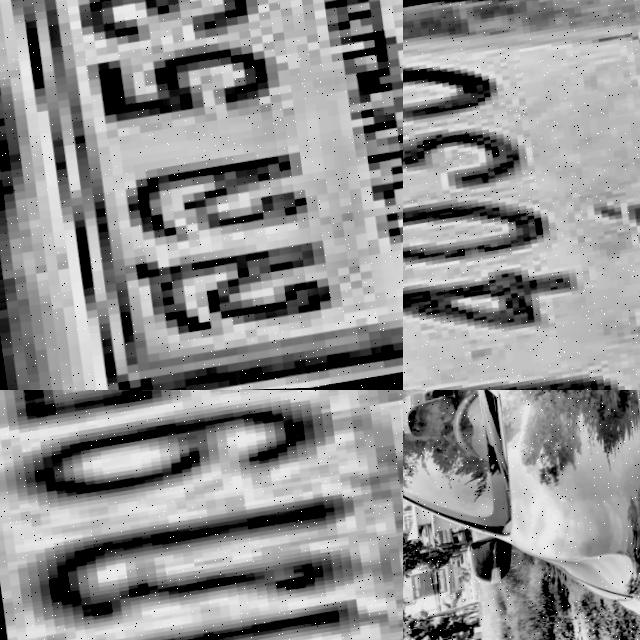license-plate: (0, 0, 403, 390), (0, 390, 403, 640), (403, 0, 640, 390)
